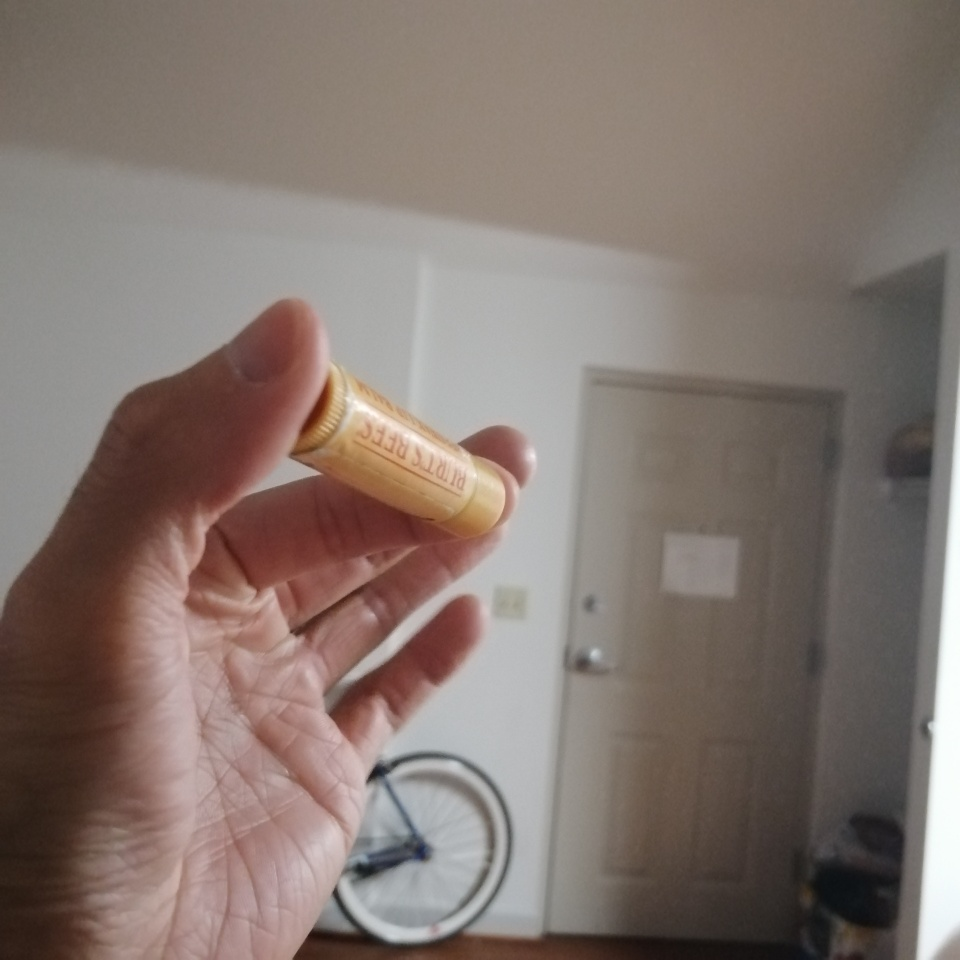chapstick: (290, 358, 508, 539)
